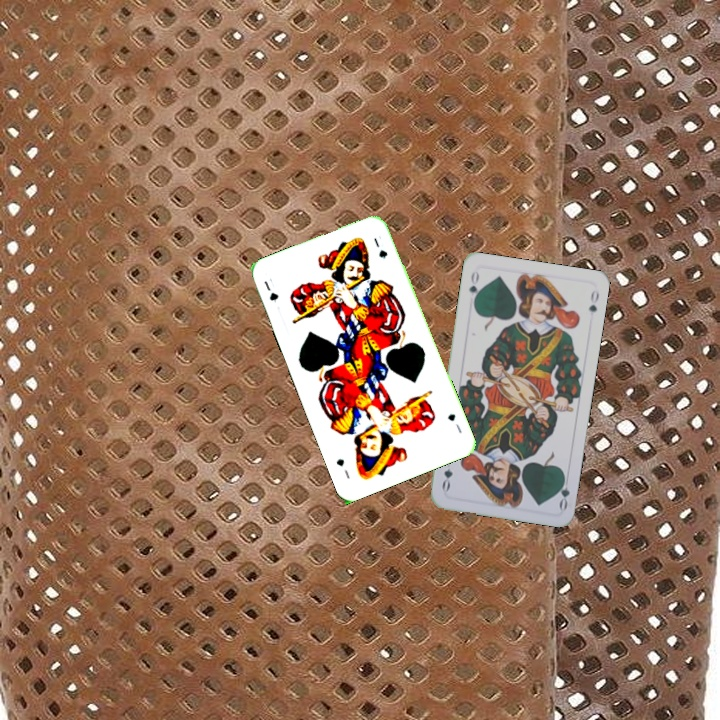GO: (553, 471, 572, 512), (465, 267, 482, 307)
GU: (260, 274, 281, 305), (444, 410, 464, 436)
